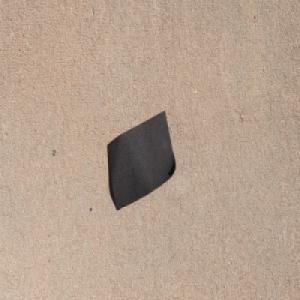PaintChip: (107, 108, 176, 211)
